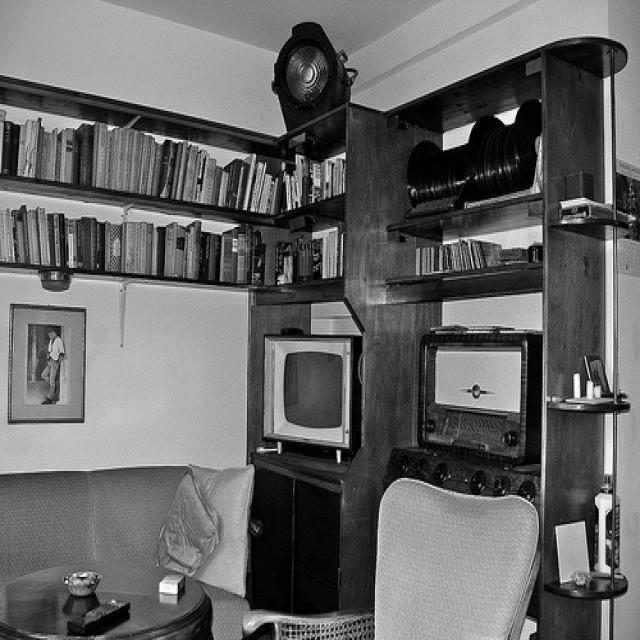chair: (244, 478, 542, 638)
sofa: (0, 464, 253, 638)
tvmonitor: (263, 331, 357, 464)
